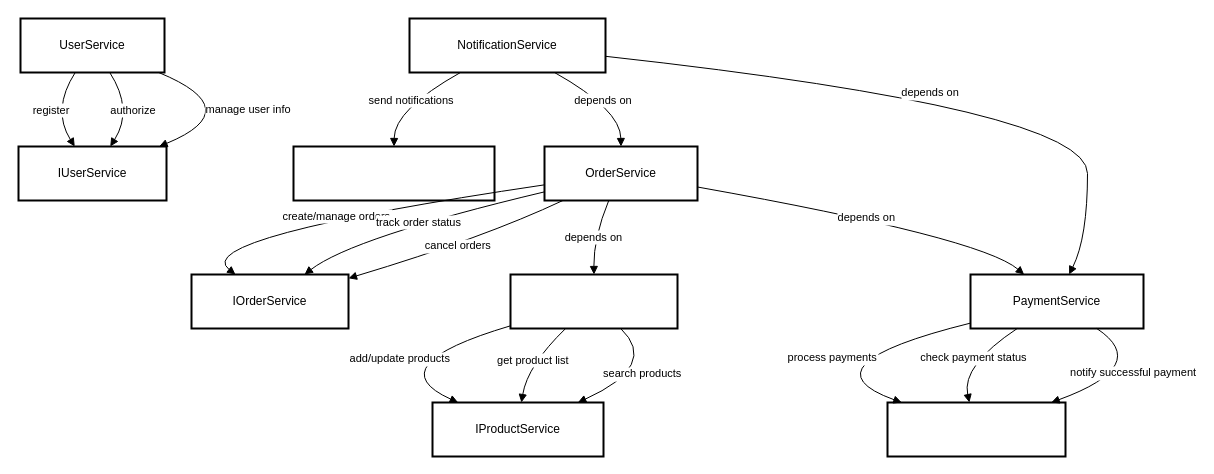
This 1214x474 diagram has some shape labels left out. Here are the shapes that lost their labels. From the top down, the centre of each, then its label:
At pixel 393 173: "INotificationService".
At pixel 593 301: "ProductService".
At pixel 976 429: "IPaymentService".
